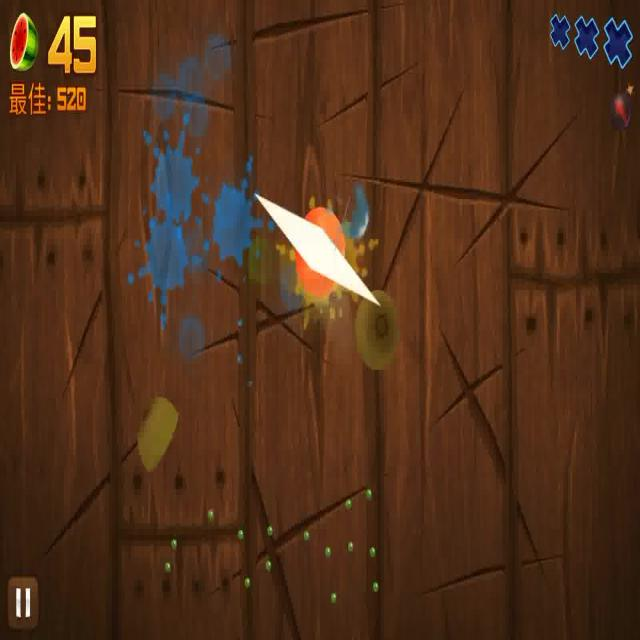fruit: (298, 207, 351, 295), (355, 282, 405, 373), (135, 394, 180, 472)
